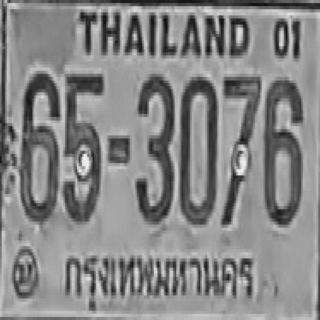N00: (179, 74, 217, 222)
N03: (134, 71, 173, 222)
N05: (62, 71, 103, 222)
N06: (20, 71, 59, 222), (262, 75, 301, 223)
N07: (220, 72, 259, 223)
P04: (55, 240, 258, 320)
